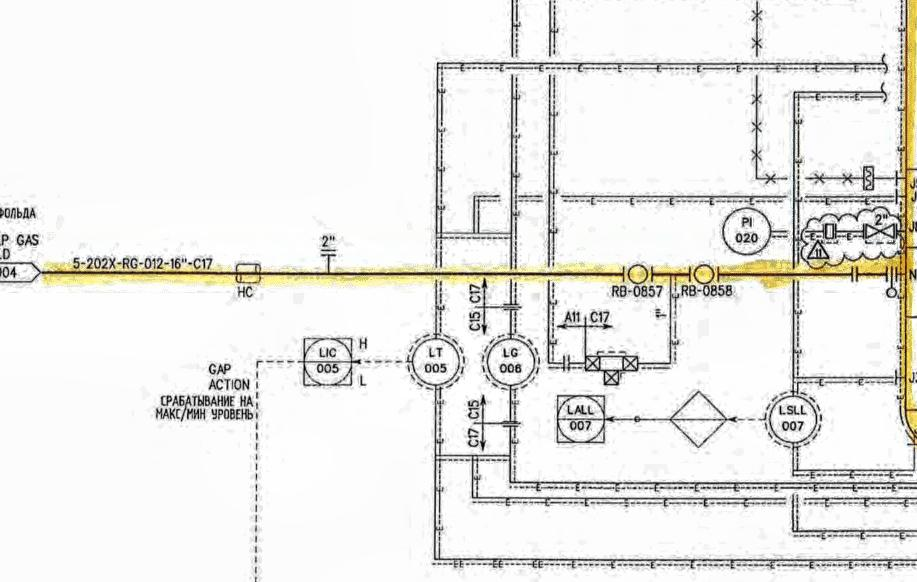2 WAY VALVE: (578, 350, 643, 385)
BLIND SPADE OPEN: (881, 260, 901, 298)
DCS ACCESSIBLE: (291, 327, 357, 393), (551, 388, 609, 452)
DIAPHRAGM SEAL: (861, 163, 878, 196)
DUPLEX RECEPTACLE: (223, 257, 273, 293)
END FLANGED: (312, 242, 341, 264), (495, 414, 524, 436), (843, 258, 865, 286), (494, 295, 521, 314)
FIELD INSTRUMENT: (405, 332, 465, 394), (764, 388, 825, 448), (481, 333, 538, 394), (721, 205, 774, 259), (620, 258, 652, 286), (689, 260, 720, 288)
GATE VALVE: (858, 219, 897, 242)
HARDWIRED INTERLOCK PRIMARY.: (662, 385, 740, 455)
REVISION TRIANGLE: (804, 234, 832, 267)
